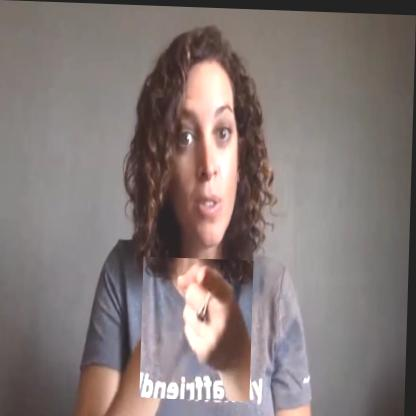HowAreYou: (142, 255, 255, 400)
